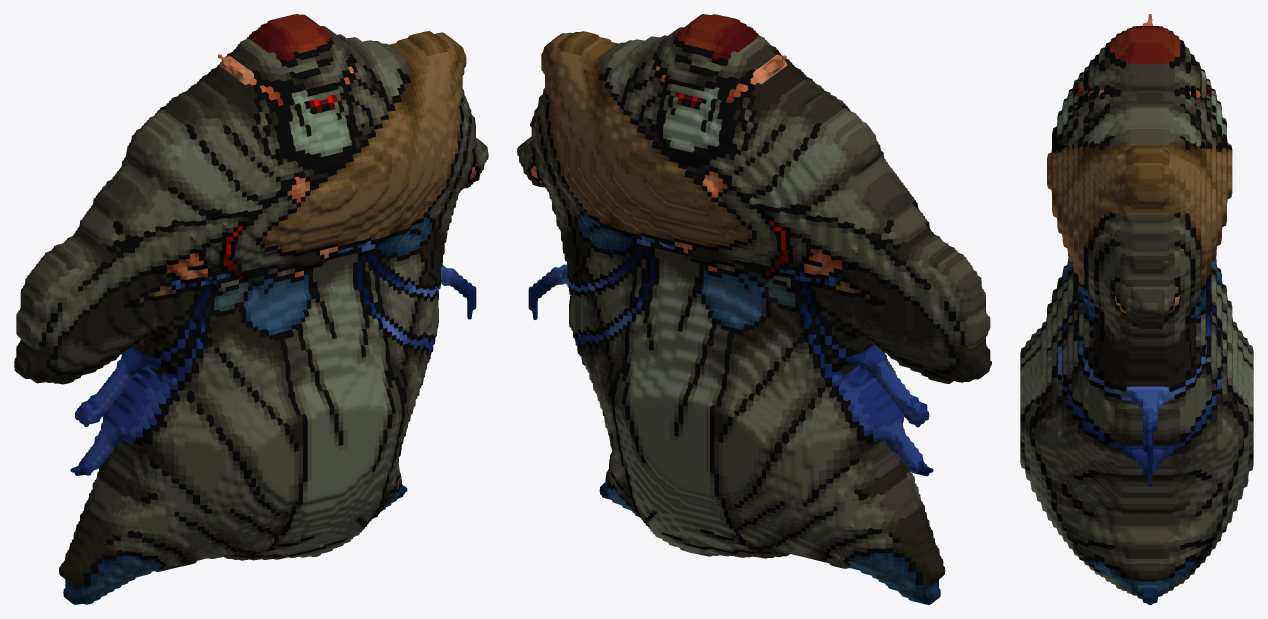
The model's file is Fight_712_2_02.obj.
3 views of the same model, side by side, from view 1: azimuth 30°, elevation 25°; view 2: azimuth 150°, elevation 25°; view 3: azimuth 270°, elevation 25° (orthographic). The views are drawn at different scales.
Size of the model in its own units: 10.5 by 11.3 by 4.4.
Materials: 1 (1 with a texture image).
